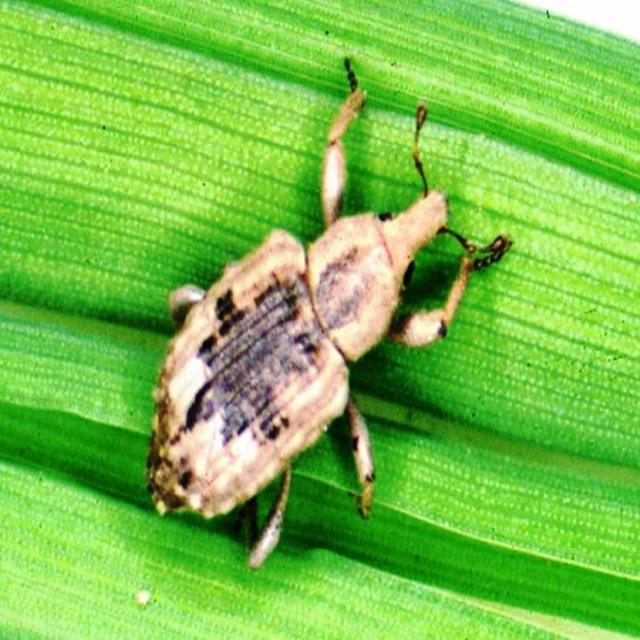rice-bug: (146, 135, 460, 569)
